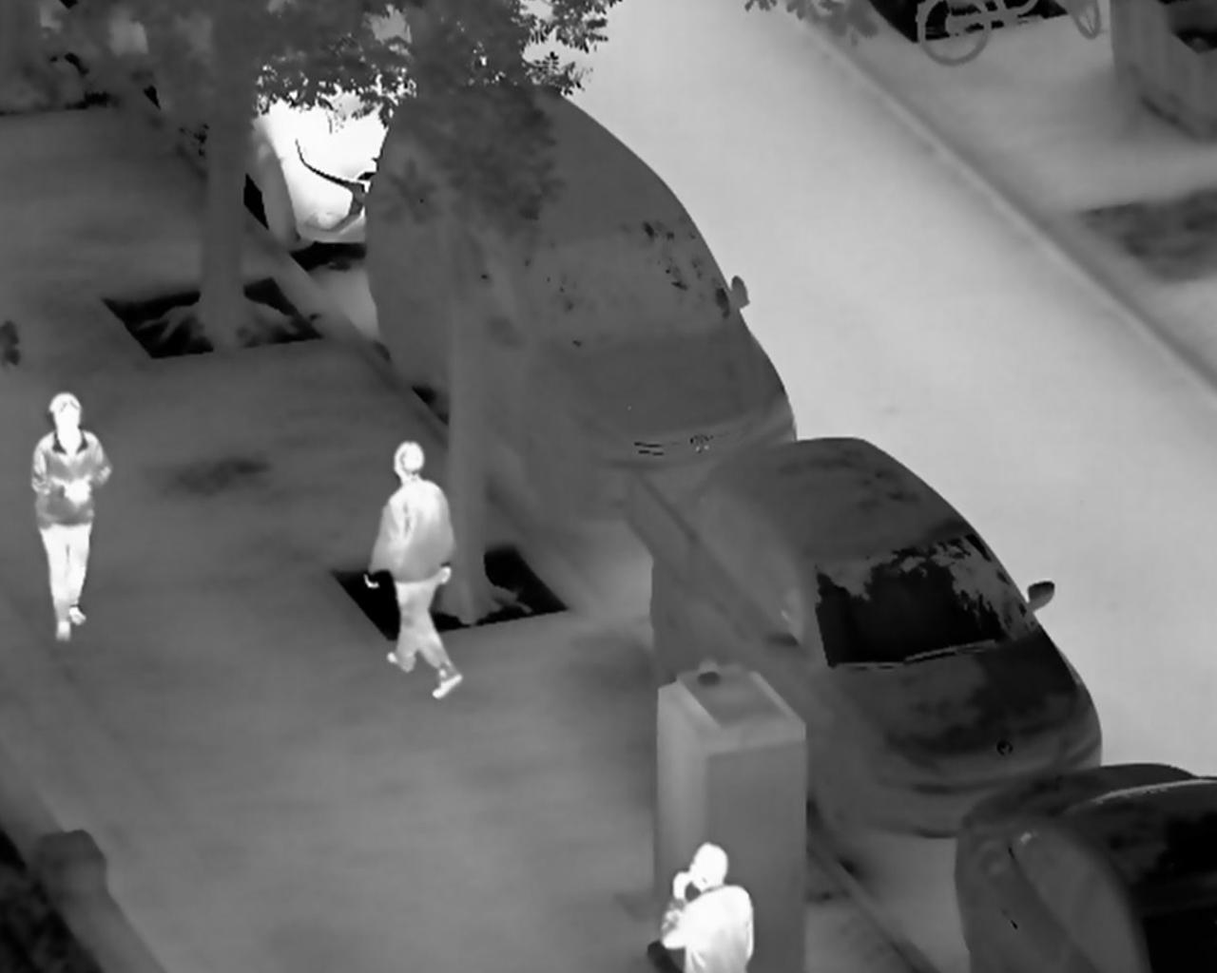person: (361, 435, 464, 702), (27, 391, 115, 642), (653, 840, 757, 973)
